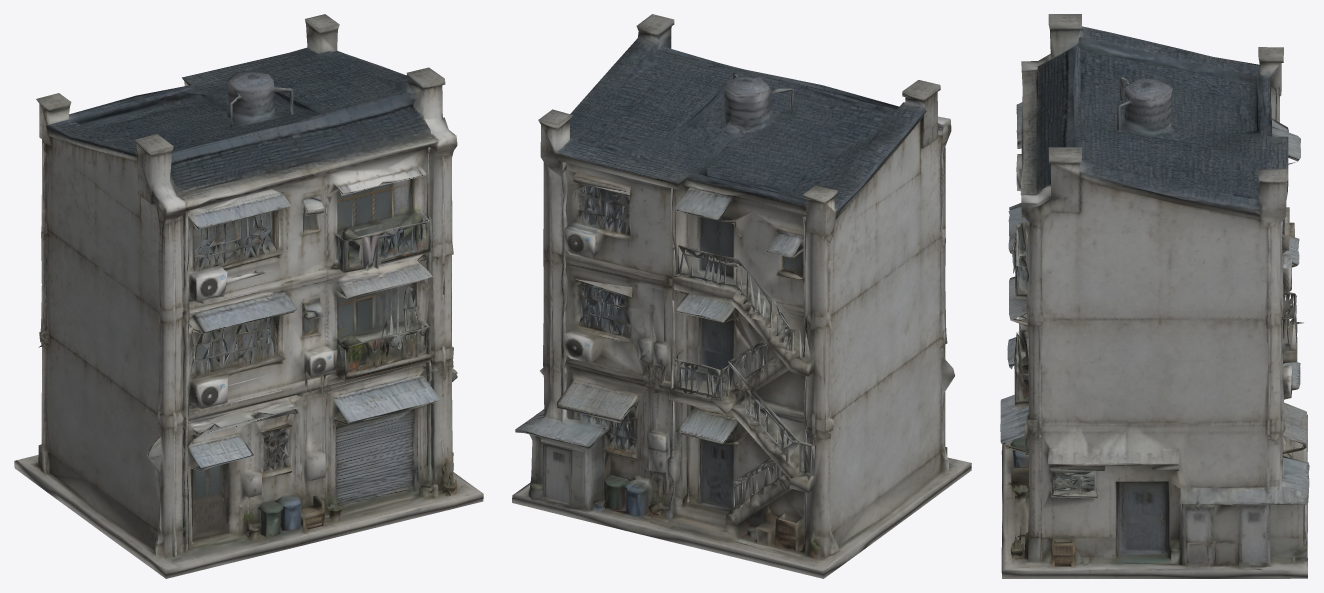
File: apartment_14.glb
3 views of the same model, side by side, from view 1: azimuth 30°, elevation 25°; view 2: azimuth 150°, elevation 25°; view 3: azimuth 270°, elevation 25° (orthographic). The views are drawn at different scales.
Parts seen in each view (by area): view 1: tripo_node_d94e23a0-ffeb-4284-b175-03d2cde3c9ba; view 2: tripo_node_d94e23a0-ffeb-4284-b175-03d2cde3c9ba; view 3: tripo_node_d94e23a0-ffeb-4284-b175-03d2cde3c9ba.
Boxes of the visible parts, x1,y1,x2,y2 form: tripo_node_d94e23a0-ffeb-4284-b175-03d2cde3c9ba: (14,14,483,578); tripo_node_d94e23a0-ffeb-4284-b175-03d2cde3c9ba: (512,14,971,578); tripo_node_d94e23a0-ffeb-4284-b175-03d2cde3c9ba: (1000,14,1309,578).
Size of the model in its own units: 0.7888 by 0.9773 by 0.6566.
1 material, 1 textured.
